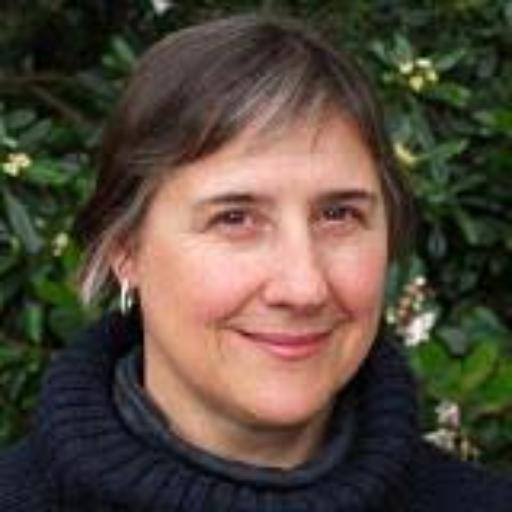left_eye: (311, 202, 369, 231)
left_lip_corner: (319, 325, 345, 345)
right_eye: (205, 205, 272, 236)
right_lip_corner: (221, 324, 252, 344)
